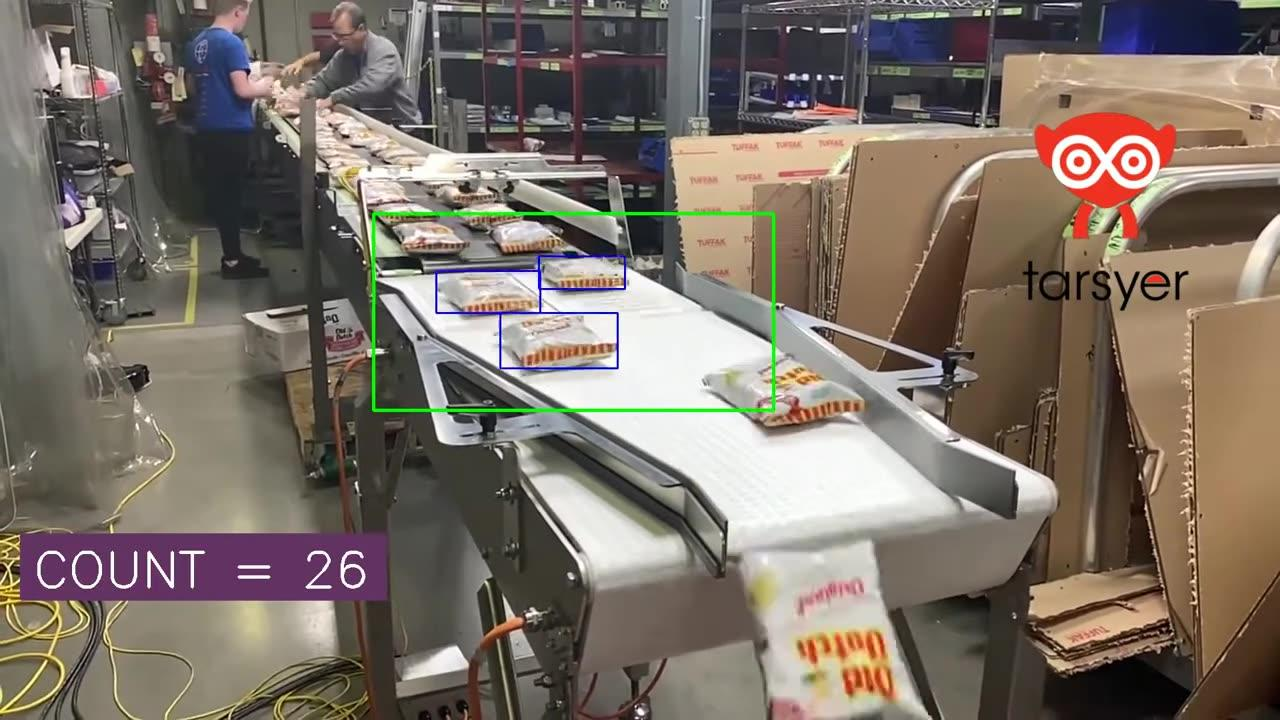Snack: (740, 541, 928, 719), (703, 355, 864, 426), (502, 314, 615, 368), (438, 273, 539, 313), (393, 218, 468, 256), (541, 257, 625, 289), (490, 221, 564, 253), (462, 203, 521, 230), (435, 184, 498, 207), (377, 202, 432, 226), (363, 180, 409, 206), (375, 144, 418, 161), (344, 127, 382, 146), (364, 135, 396, 154), (325, 113, 357, 127), (389, 154, 426, 166)
